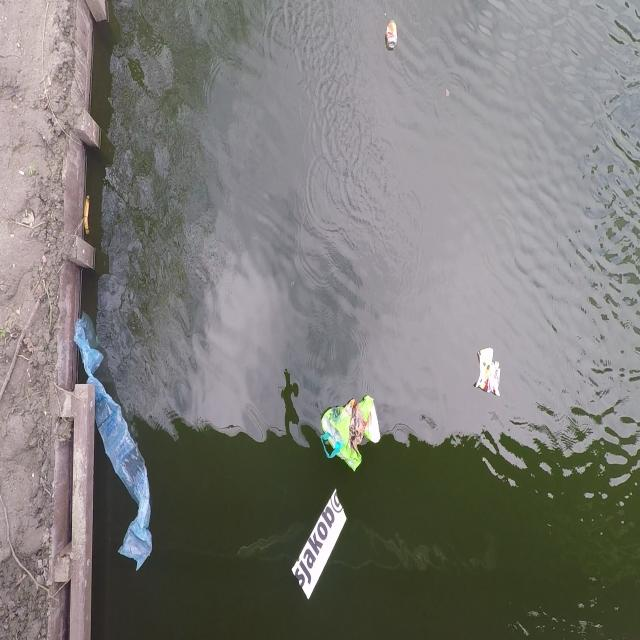Non plastique: (381, 16, 399, 54)
Sac plastique: (96, 366, 160, 580), (314, 387, 384, 479)
